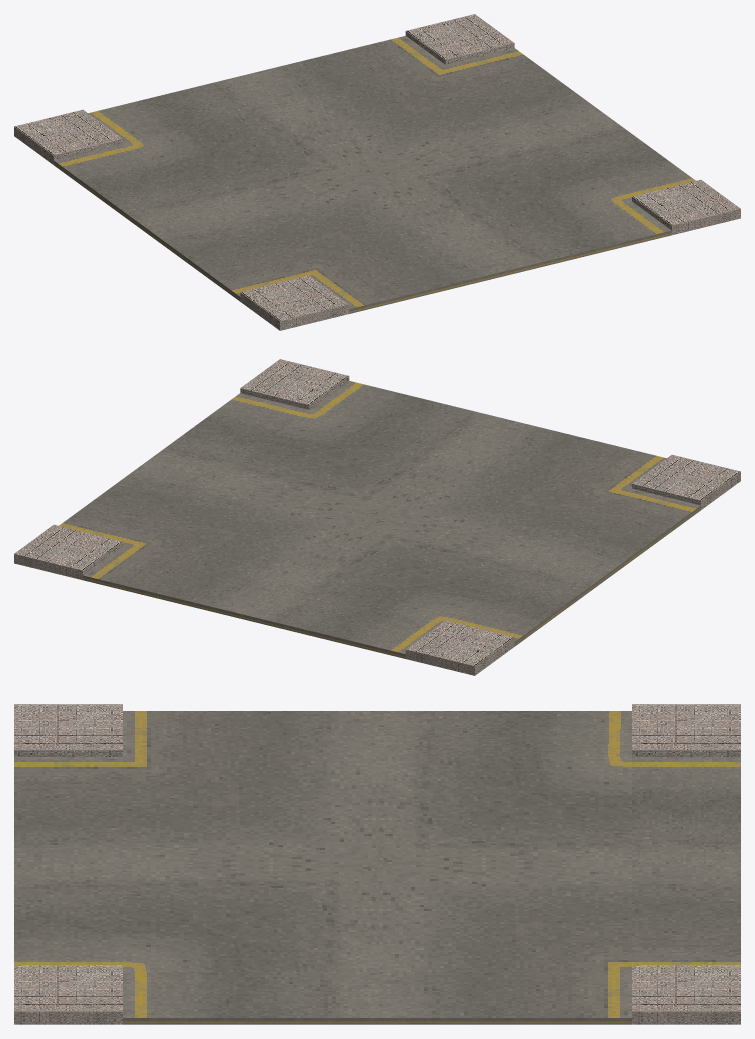
Rendered from road_2_junction.glb.
3 renders of one model, top to bottom at view 1: azimuth 30°, elevation 25°; view 2: azimuth 150°, elevation 25°; view 3: azimuth 270°, elevation 25°, orthographic. The views are drawn at different scales.
Visible parts, largest first — view 1: road_2_junction; view 2: road_2_junction; view 3: road_2_junction.
Boxes of the visible parts, bbox=[...] form: road_2_junction: bbox=[14, 14, 740, 330]; road_2_junction: bbox=[14, 359, 740, 675]; road_2_junction: bbox=[14, 704, 740, 1024].
Size of the model in its own units: 16 by 0.32 by 16.
Materials: 2 (2 with a texture image).
